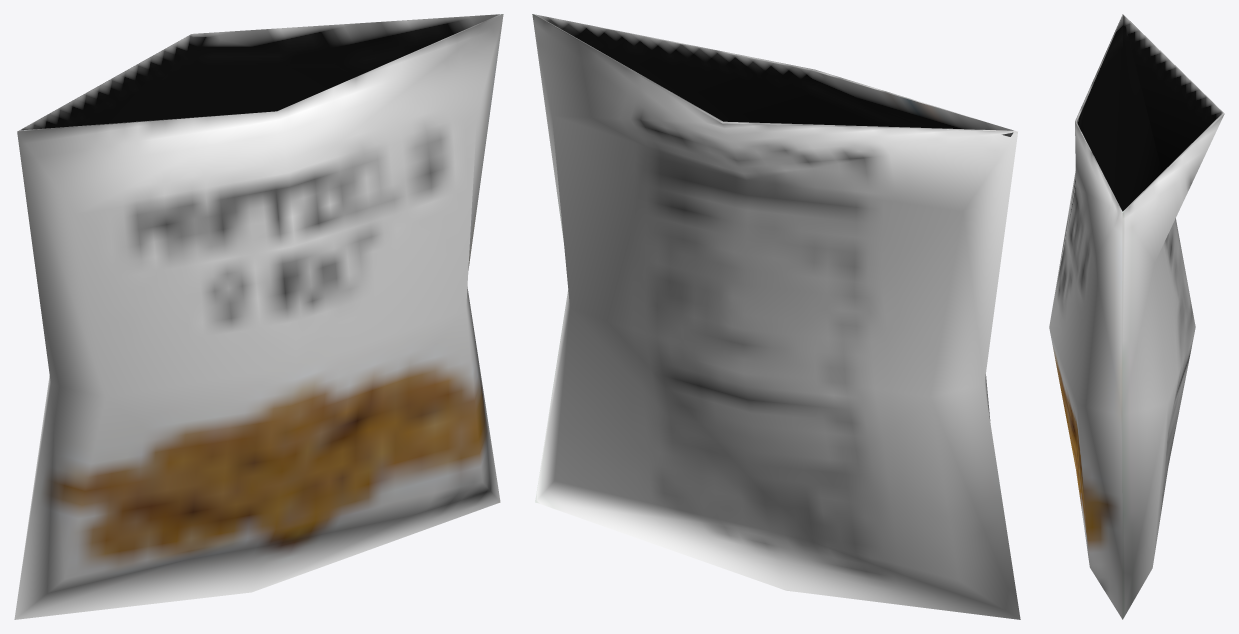
The model's file is esya_cips_small_open_c.glb.
3 views of the same model, side by side, from view 1: azimuth 30°, elevation 25°; view 2: azimuth 150°, elevation 25°; view 3: azimuth 270°, elevation 25° (orthographic). The views are drawn at different scales.
Visible parts, largest first — view 1: Small_Open_C; view 2: Small_Open_C; view 3: Small_Open_C.
Part boxes in pixels (left/top/right/bottom): Small_Open_C: left=14, top=14, right=503, bottom=619; Small_Open_C: left=532, top=14, right=1020, bottom=619; Small_Open_C: left=1049, top=14, right=1224, bottom=619.
Size of the model in its own units: 1.56 by 1.57 by 0.5785.
1 material, 1 textured.
